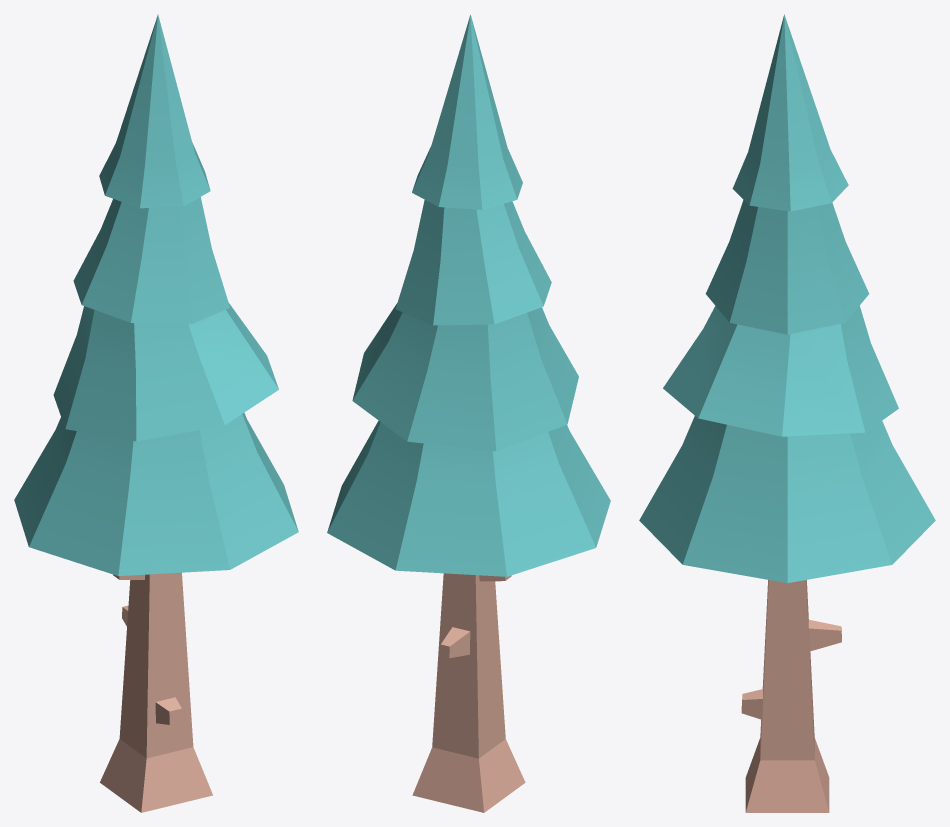
Rendered from tree_pineDefaultB.glb.
3 views of the same model, side by side, from view 1: azimuth 30°, elevation 25°; view 2: azimuth 150°, elevation 25°; view 3: azimuth 270°, elevation 25° (orthographic).
Parts seen in each view (by area): view 1: tree_pineDefaultB; view 2: tree_pineDefaultB; view 3: tree_pineDefaultB.
Part boxes in pixels (x1,y1,x2,y2): tree_pineDefaultB: [14, 14, 298, 812]; tree_pineDefaultB: [327, 14, 610, 812]; tree_pineDefaultB: [639, 14, 935, 812].
Size of the model in its own units: 0.532 by 1.55 by 0.532.
